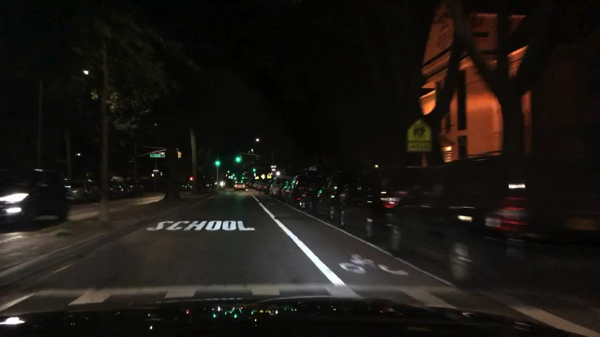car: (389, 151, 597, 292), (362, 162, 447, 253), (337, 165, 403, 242), (0, 167, 74, 230), (309, 169, 360, 220), (288, 175, 329, 206), (65, 176, 104, 205), (268, 176, 293, 198), (124, 179, 147, 197), (110, 178, 129, 199), (250, 180, 262, 191), (233, 181, 246, 191), (261, 181, 271, 193), (179, 183, 193, 191), (245, 179, 252, 186)
traffic light: (213, 159, 223, 169), (233, 155, 242, 163), (176, 150, 183, 160), (250, 165, 257, 174), (231, 170, 236, 178)
traffic sign: (403, 119, 434, 151), (148, 153, 166, 158), (270, 166, 279, 174), (152, 169, 161, 174)
